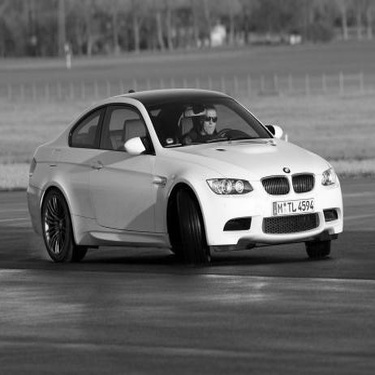car: (19, 83, 355, 266)
